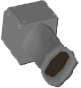cannon: (1, 1, 80, 88)
